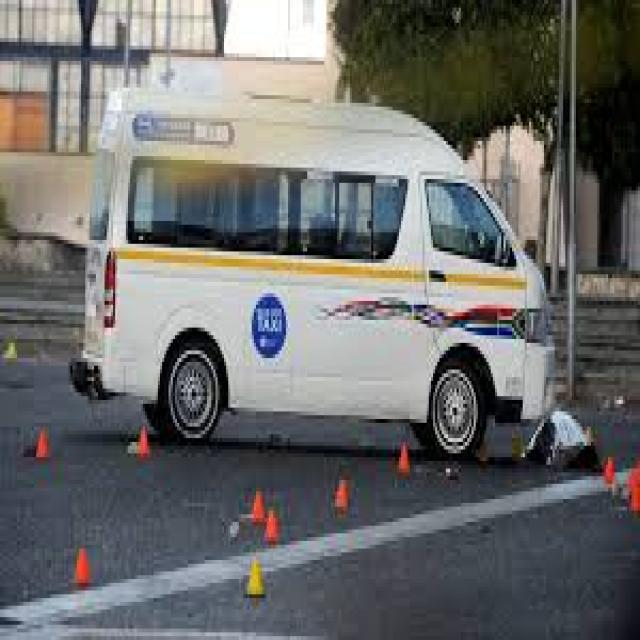MiniBus taxi: (73, 95, 563, 442)
